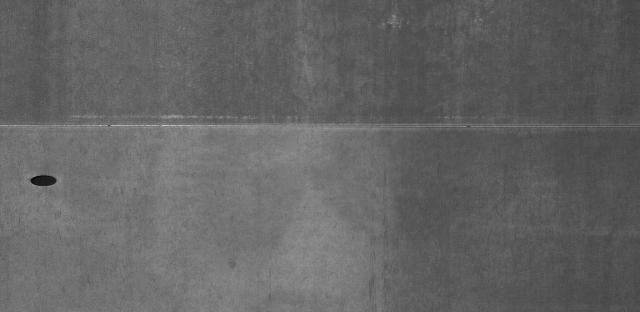punching_hole: (26, 170, 72, 190)
welding_line: (4, 117, 640, 141)
